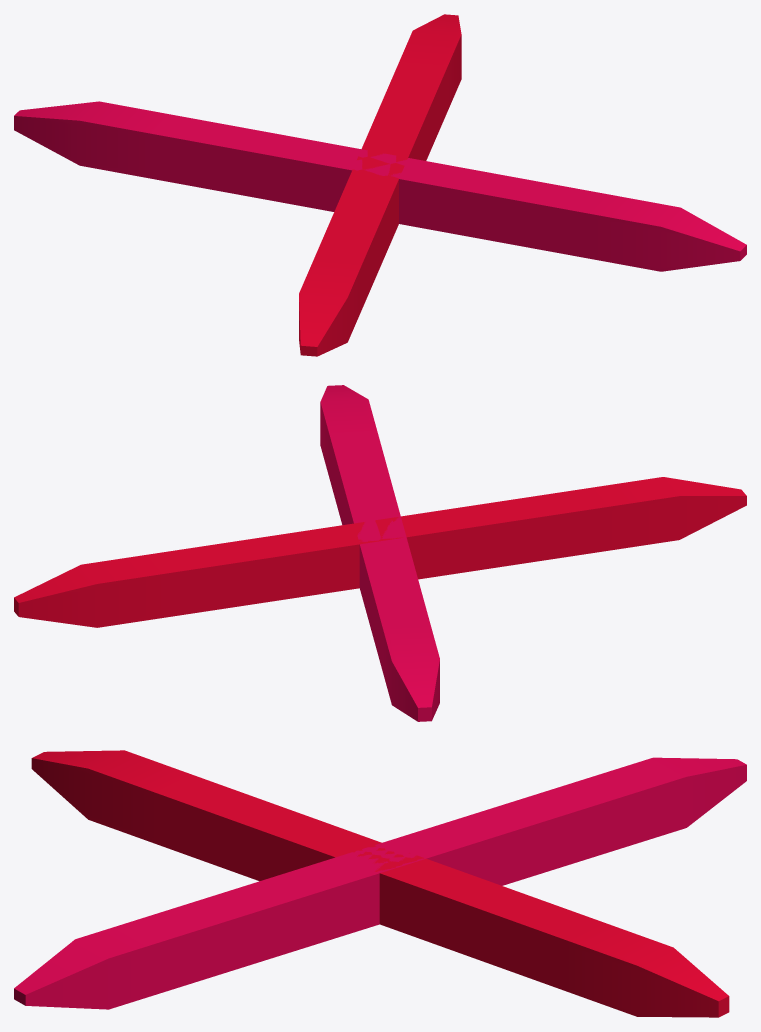
Rendered from cross.fbx.
The picture shows the model from 3 angles, top to bottom: view 1: azimuth 30°, elevation 25°; view 2: azimuth 150°, elevation 25°; view 3: azimuth 270°, elevation 25°; orthographic projection. The views are drawn at different scales.
Parts seen in each view (by area): view 1: pCube2, pCube1; view 2: pCube1, pCube2; view 3: pCube2, pCube1.
Boxes of the visible parts, box(x1,y1,x2,y2) form: pCube2: box(14, 101, 746, 271); pCube1: box(299, 14, 461, 356); pCube1: box(14, 477, 746, 627); pCube2: box(320, 385, 439, 721); pCube2: box(14, 757, 746, 1009); pCube1: box(31, 750, 729, 1017).
Size of the model in its own units: 10.57 by 1 by 12.98.
